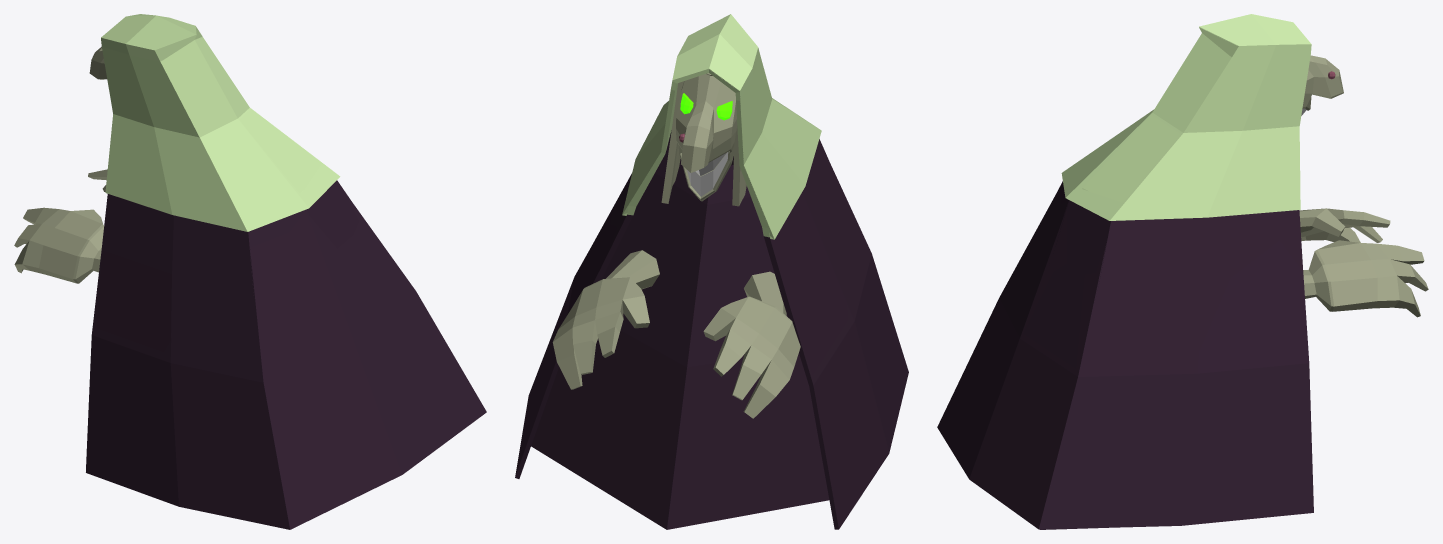
The model's file is bruja.fbx.
The picture shows the model from 3 angles, left to right: view 1: azimuth 30°, elevation 25°; view 2: azimuth 150°, elevation 25°; view 3: azimuth 270°, elevation 25°; orthographic projection. The views are drawn at different scales.
Parts seen in each view (by area): view 1: Cube; view 2: Cube; view 3: Cube.
Part boxes in pixels (x1,y1,x2,y2): Cube: (14,14,486,529); Cube: (515,14,908,529); Cube: (937,14,1428,529).
Size of the model in its own units: 14.71 by 18.24 by 18.22.
